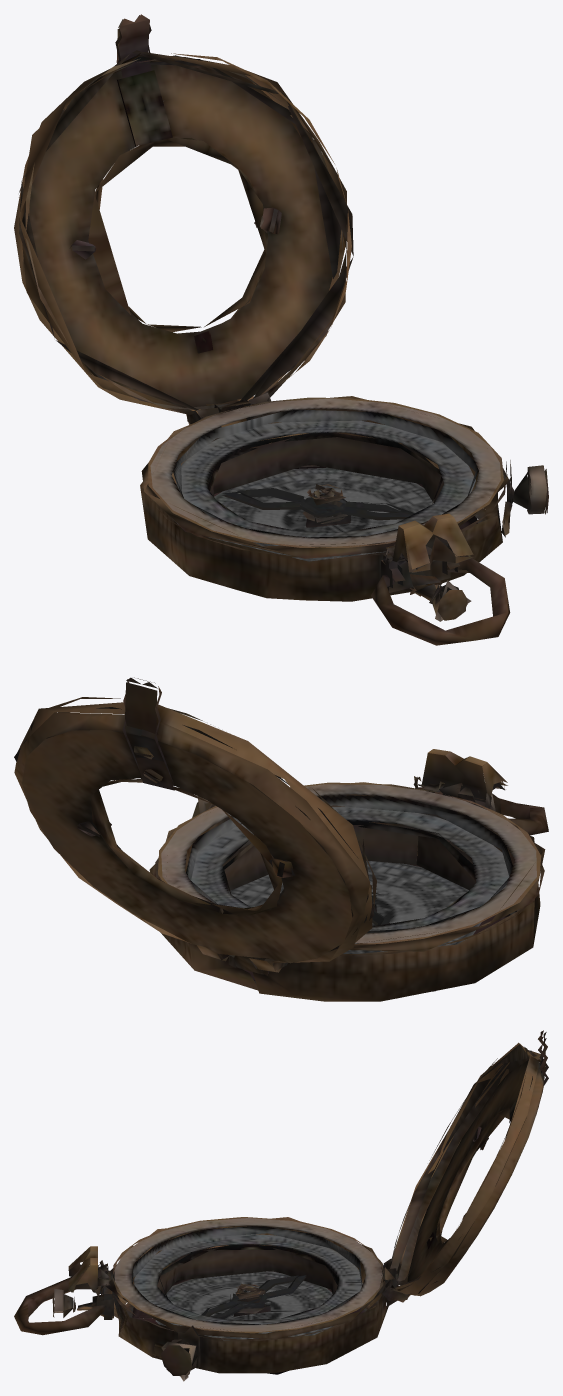
The model's file is compass.glb.
3 views of the same model, one above another, from view 1: azimuth 30°, elevation 25°; view 2: azimuth 150°, elevation 25°; view 3: azimuth 270°, elevation 25° (orthographic). The views are drawn at different scales.
Visible parts, largest first — view 1: seadogs_compass; view 2: seadogs_compass; view 3: seadogs_compass.
Part boxes in pixels (box(x1,y1,x2,y2)): seadogs_compass: box(14, 14, 548, 645); seadogs_compass: box(14, 677, 548, 1001); seadogs_compass: box(14, 1030, 548, 1381).
Size of the model in its own units: 0.0826 by 0.0867 by 0.1448.
1 material, 1 textured.
